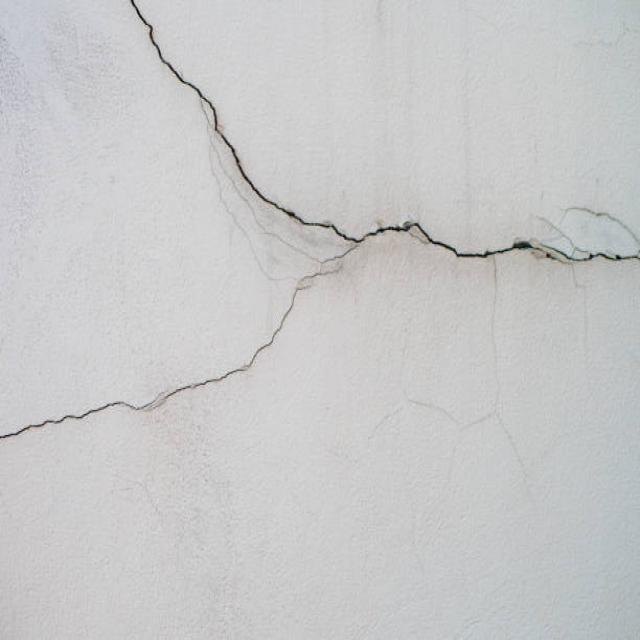Crack: (120, 0, 352, 347), (351, 184, 640, 316), (8, 347, 254, 447)
